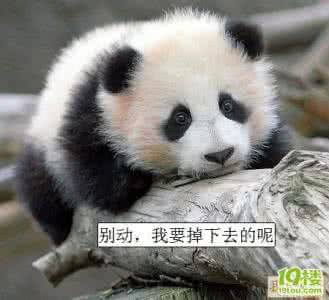panda: (15, 12, 291, 245)
